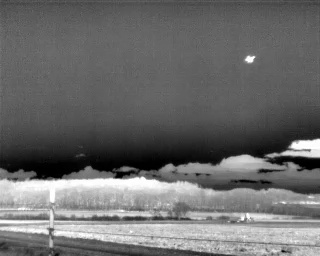DRONE: (241, 52, 259, 67)
